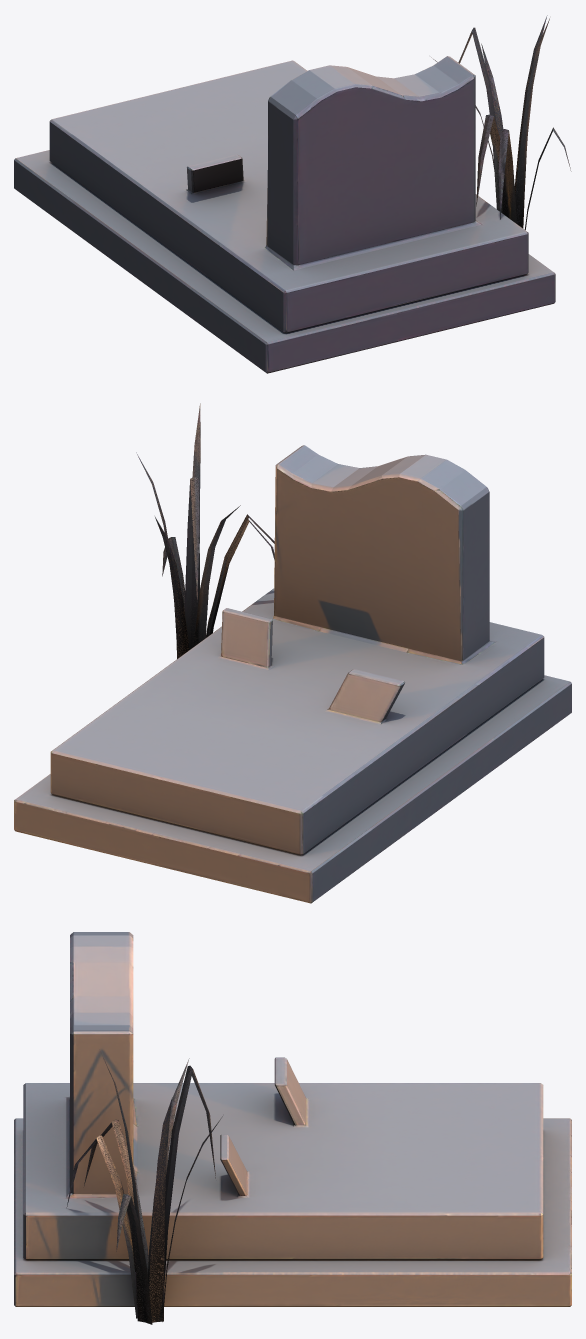
3 views of the same model, one above another, from view 1: azimuth 30°, elevation 25°; view 2: azimuth 150°, elevation 25°; view 3: azimuth 270°, elevation 25° (orthographic). The views are drawn at different scales.
Visible parts, largest first — view 1: Tombe1; view 2: Tombe1; view 3: Tombe1.
Boxes of the visible parts, x1,y1,x2,y2 form: Tombe1: (14, 15, 571, 373); Tombe1: (14, 403, 571, 903); Tombe1: (14, 932, 571, 1324).
Size of the model in its own units: 1.73 by 1.18 by 2.15.
Materials: 1 (1 with a texture image).
